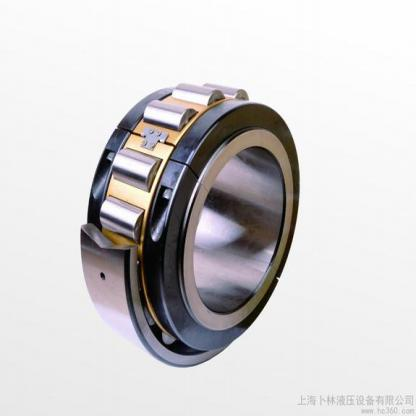FOD: (74, 80, 300, 372)
